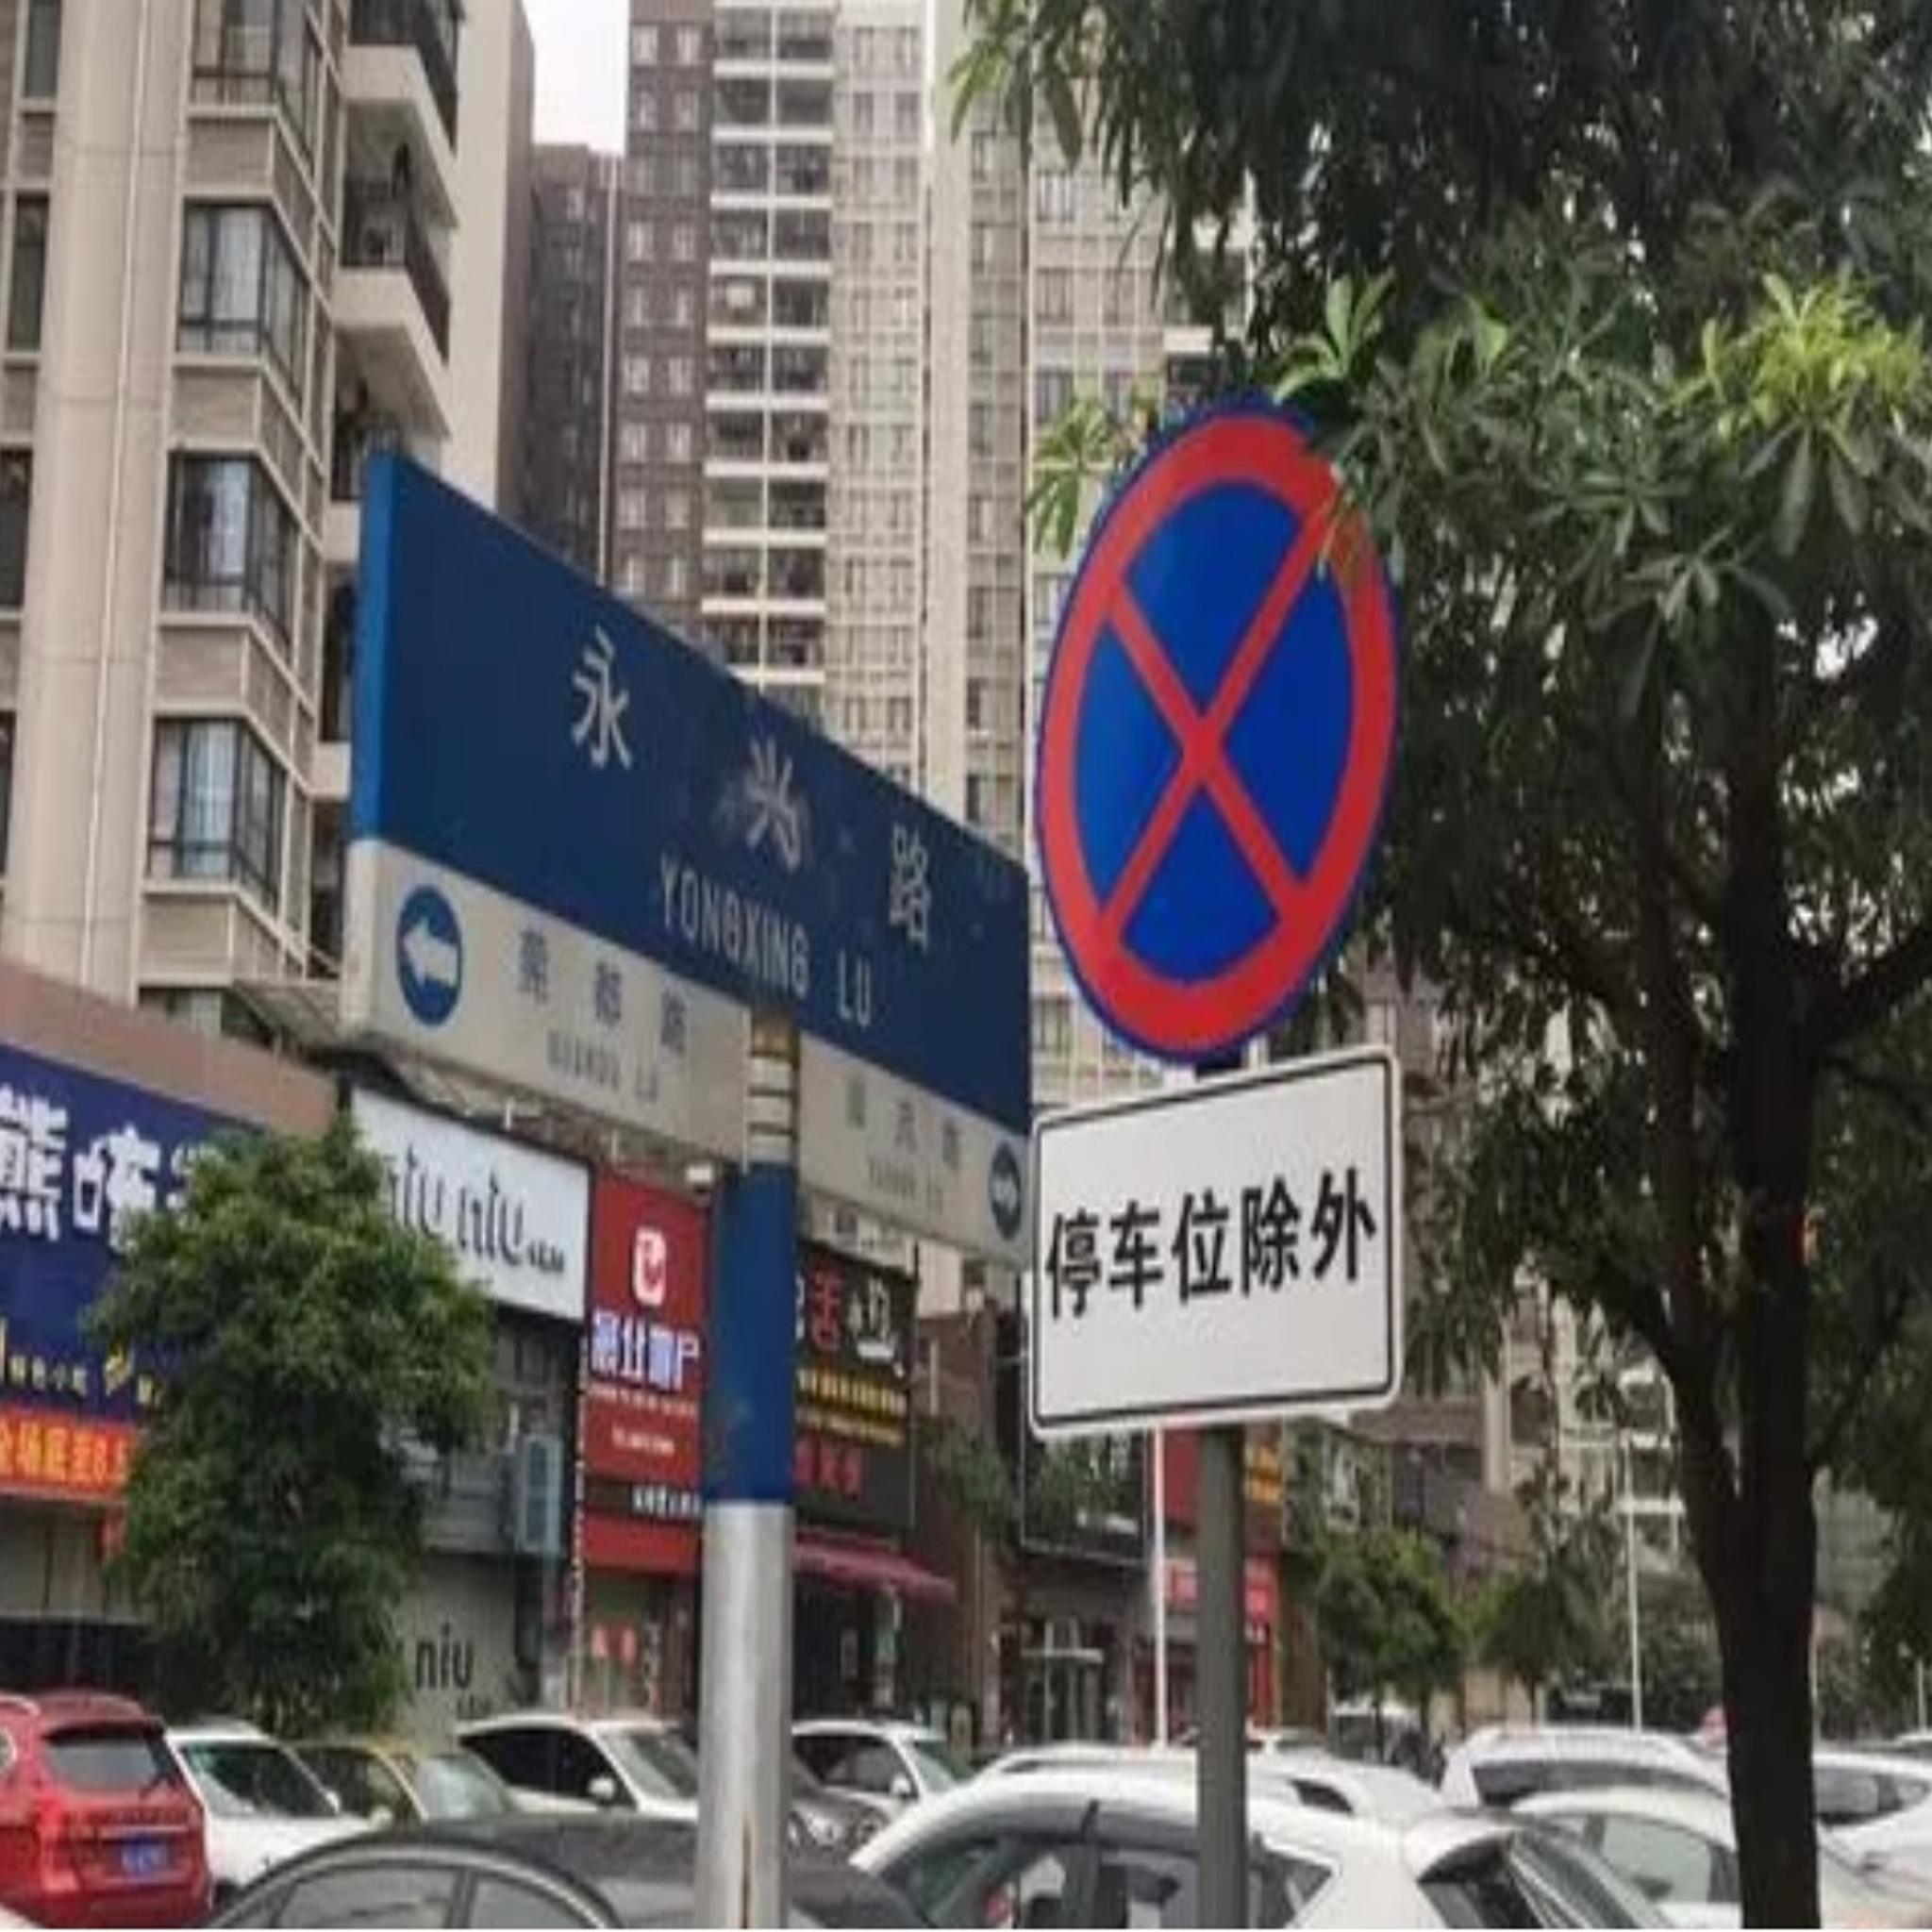pn: (1030, 407, 1403, 1069)
